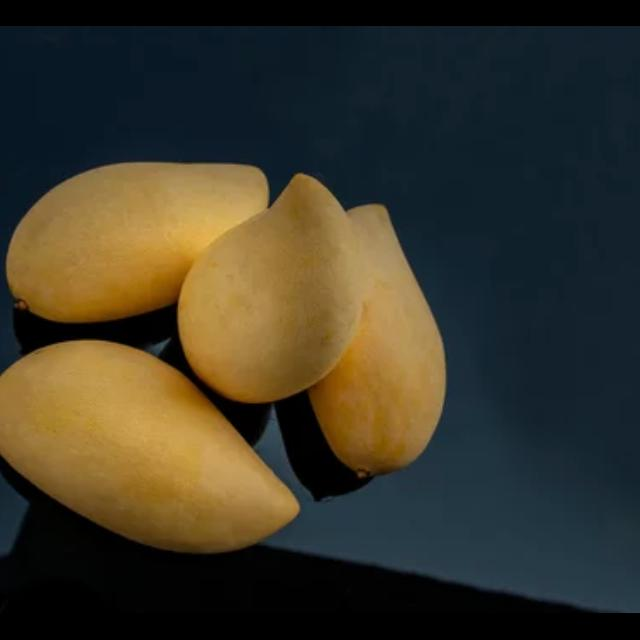mango: (0, 337, 309, 556), (0, 158, 272, 324)
